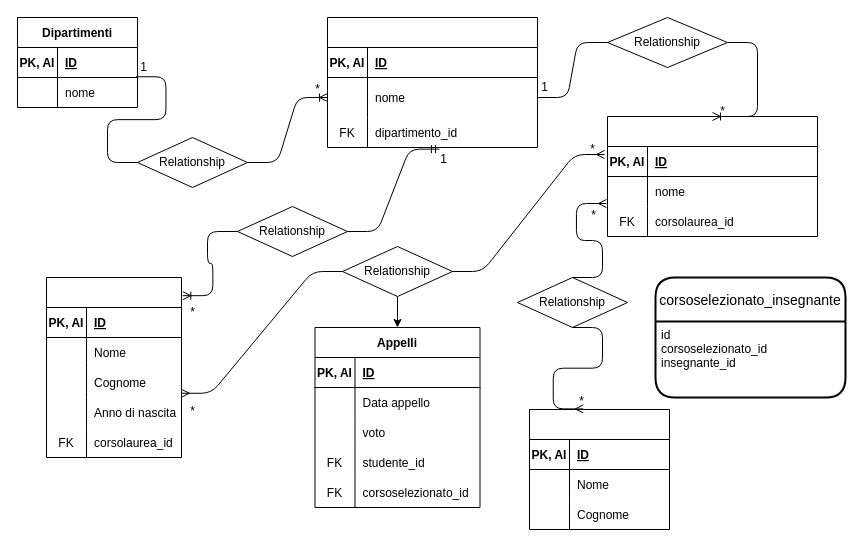
This 864x547 diagram has some shape labels left out. Each missing label, with the box of its shape:
Corsi laurea: (326, 16, 538, 148)
Corsi selezionati: (606, 116, 818, 236)
Insegnanti: (528, 408, 670, 530)
Studenti: (46, 276, 182, 458)
